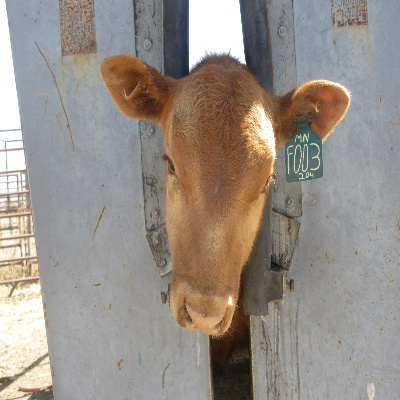fidget_spinner: (177, 291, 230, 332)
